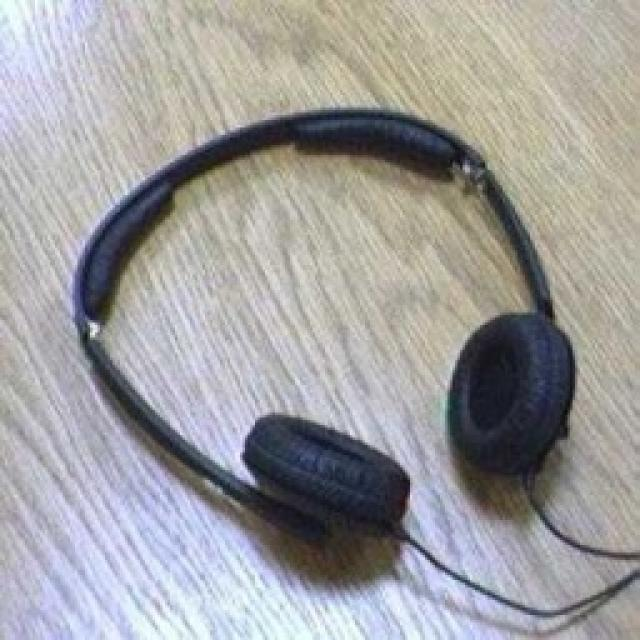headphones: (68, 102, 578, 542)
